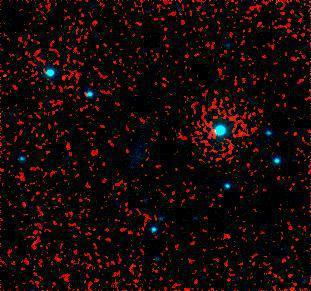star: (0, 61, 22, 91)
